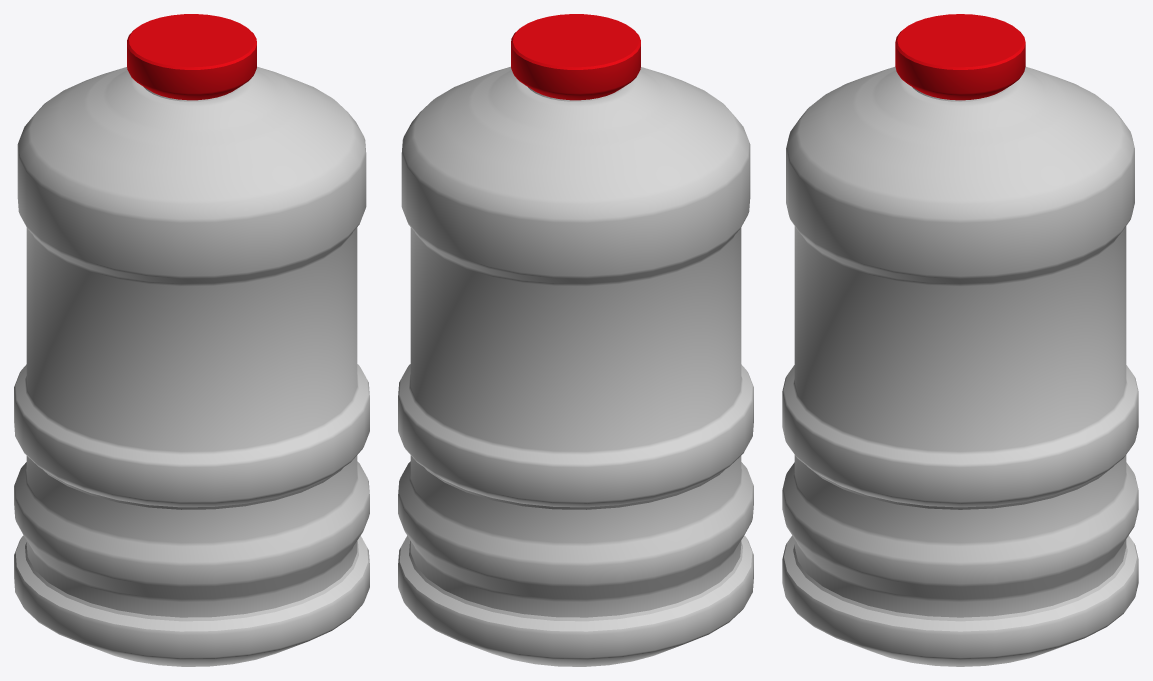
The model's file is bottle4.glb.
3 views of the same model, side by side, from view 1: azimuth 30°, elevation 25°; view 2: azimuth 150°, elevation 25°; view 3: azimuth 270°, elevation 25° (orthographic).
Parts seen in each view (by area): view 1: Bottle4; view 2: Bottle4; view 3: Bottle4.
Boxes of the visible parts, x1=… form: Bottle4: x1=14, y1=14, x2=369, y2=666; Bottle4: x1=398, y1=14, x2=753, y2=666; Bottle4: x1=782, y1=14, x2=1138, y2=666.
Bounding box in the file's own units: 0.3384 × 0.5999 × 0.3384.
